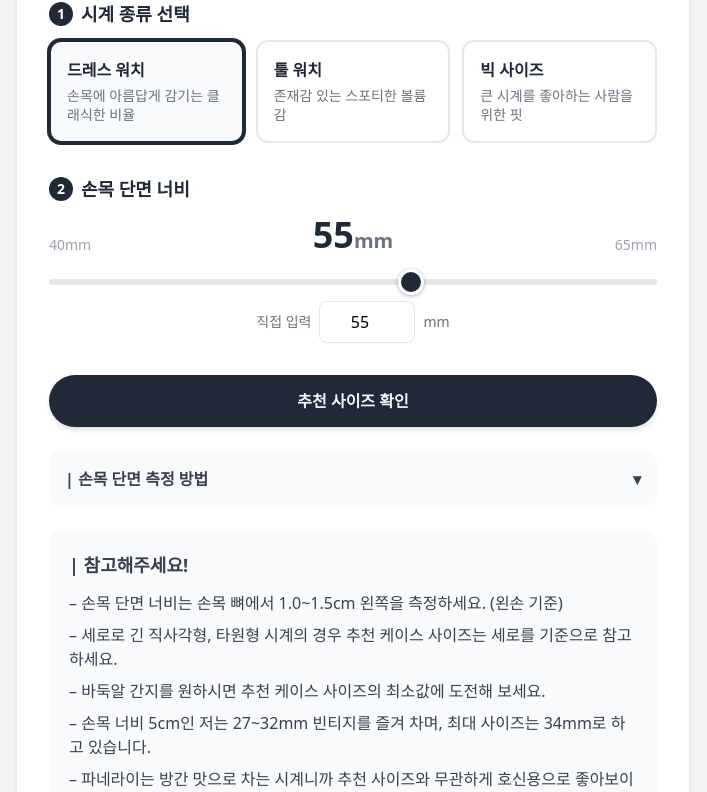
Test: FitFinder — 추천 결과 › 시계 종류를 바꾸면 결과도 따라 바뀐다
(page scrolled)
Click the button "추천 사이즈 확인". click: {"x": 353, "y": 400}
box: [49,374,657,426]
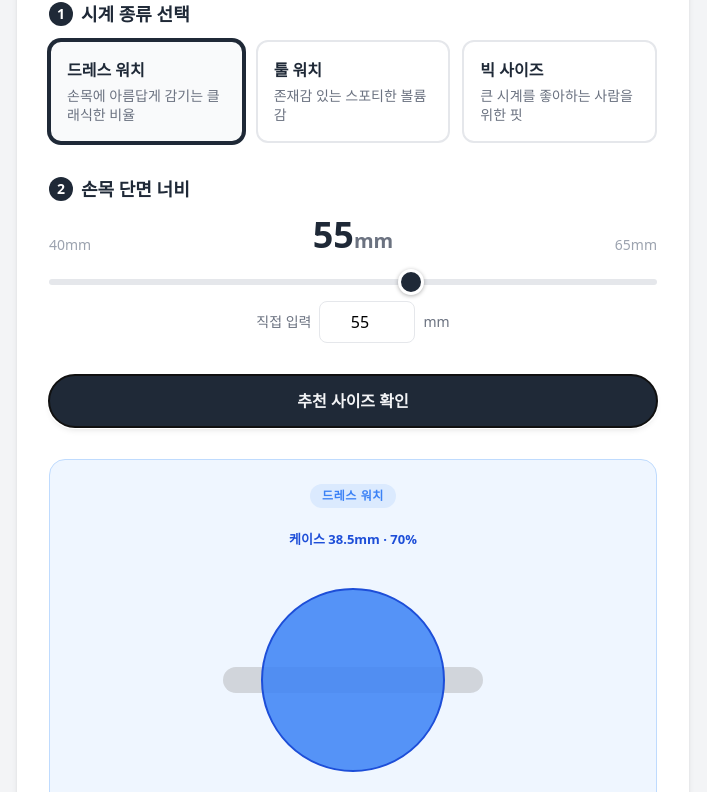
Click the button "빅 사이즈 큰 시계를 좋아하는 사람을 위한 핏". click: {"x": 560, "y": 91}
box: [462,40,657,142]
(page scrolled)
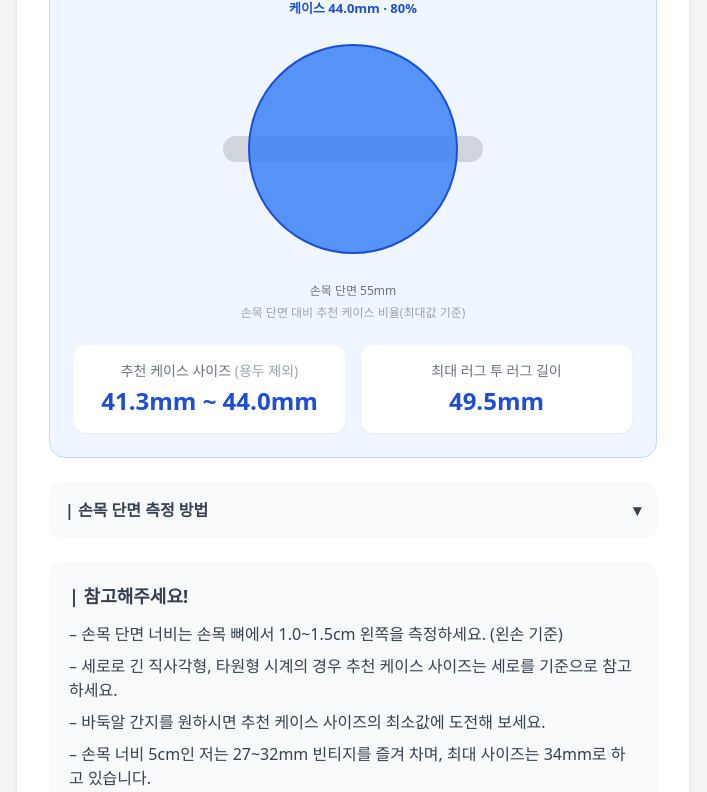
Expected: the text "41.3mm ~ 44.0mm" is shown, [90,384,329,416]
